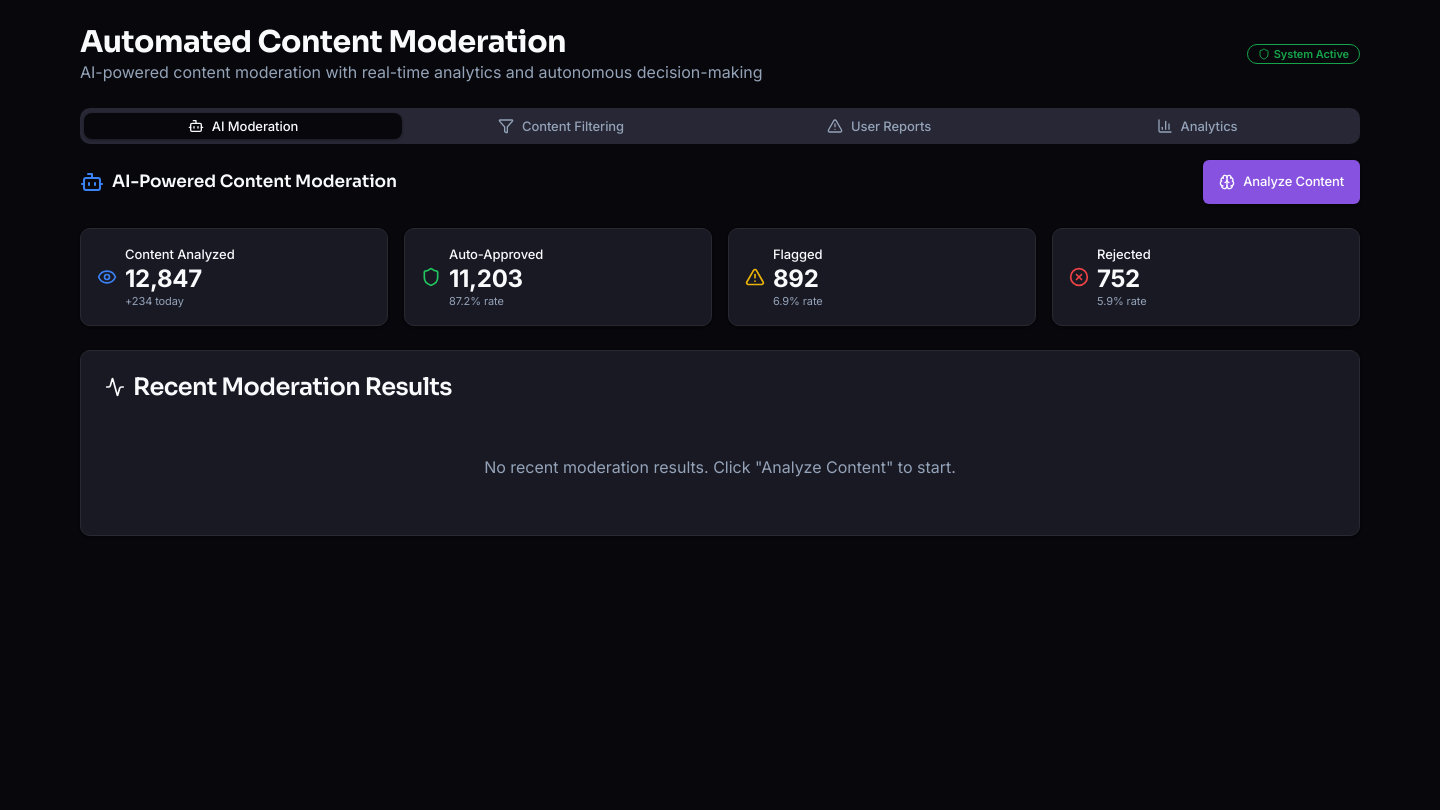
Scenario: AutomatedContentModerationDashboard › US-168: Advanced Automated Content Filtering › should show filter performance metrics
Click the tab "Content Filtering" at (561, 126), box [402,113,720,139]
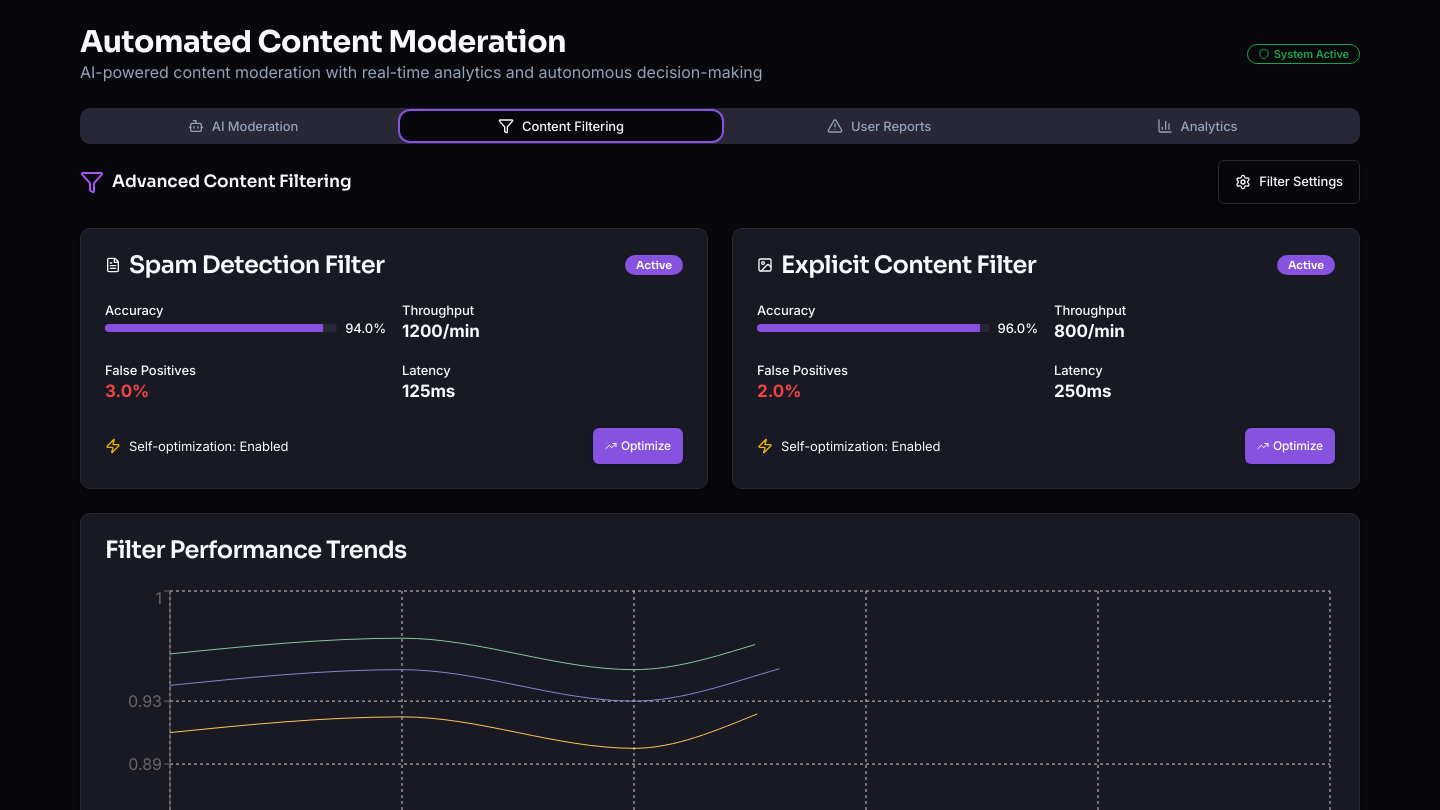
expect the heading "Advanced Content Filtering" is shown: met, box [112,169,352,195]
expect the text "Spam Detection Filter" is shown: met, box [129,253,384,277]
expect the text "94.0%" is shown: met, box [345,319,386,337]
